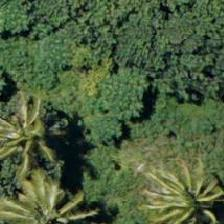coconut_tree: (0, 88, 74, 178), (141, 155, 223, 223)
